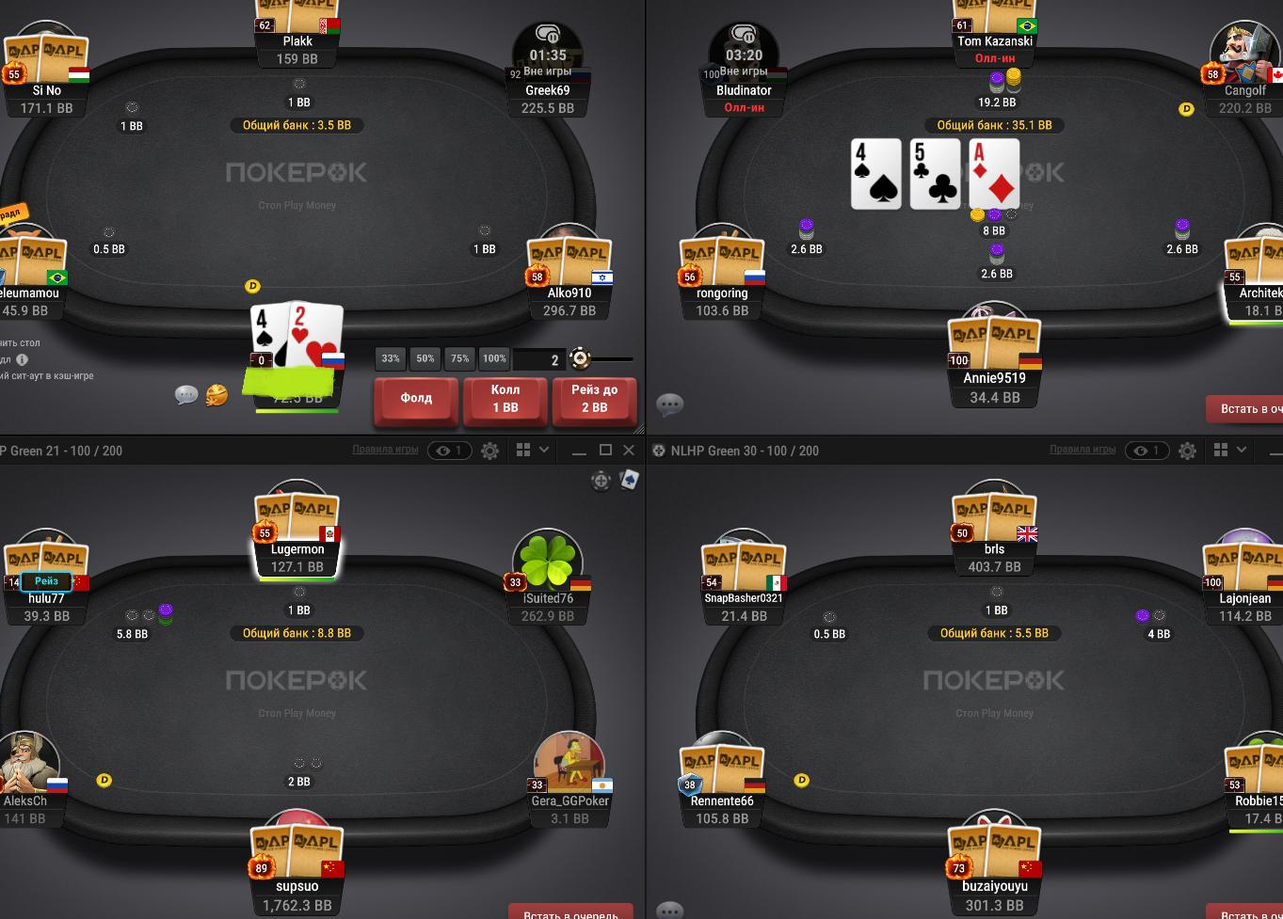2h: (288, 296, 345, 368)
4s: (850, 139, 901, 208), (246, 303, 289, 372)
5c: (911, 139, 961, 210)
Ad: (970, 138, 1019, 208)
